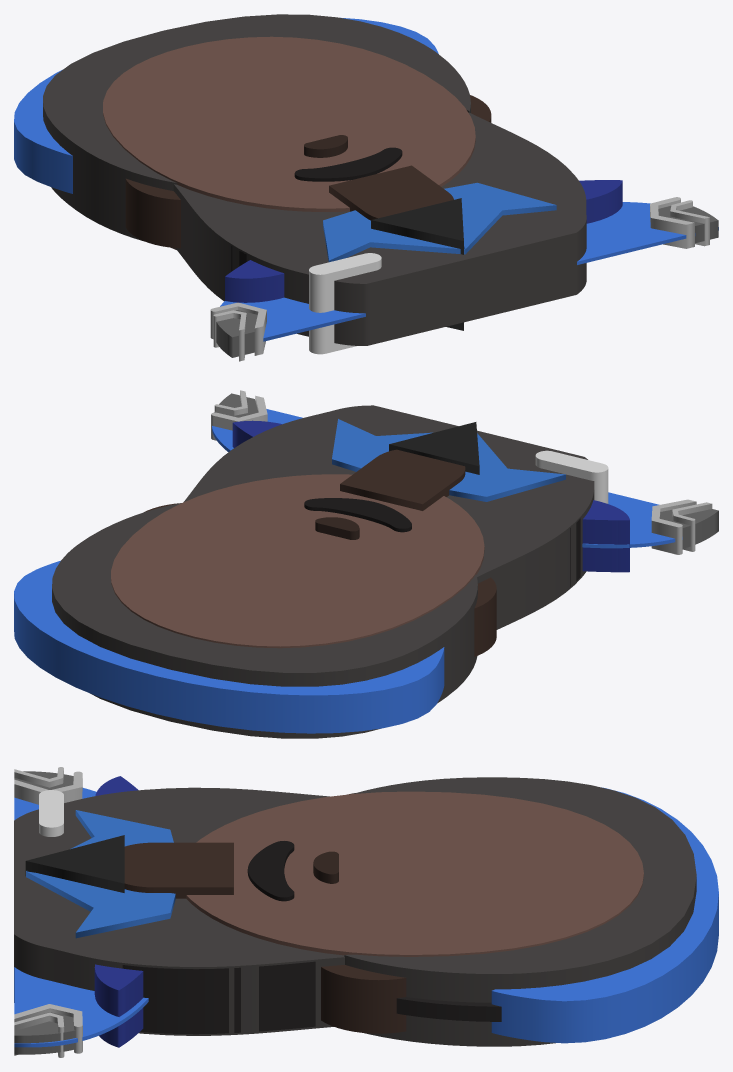
The model's file is emoji_u1f46e_1f3ff_200d_2640.glb.
The picture shows the model from 3 angles, top to bottom: view 1: azimuth 30°, elevation 25°; view 2: azimuth 150°, elevation 25°; view 3: azimuth 270°, elevation 25°; orthographic projection. The views are drawn at different scales.
Parts seen in each view (by area): view 1: emoji_u1f46e_1f3ff_200d_2640; view 2: emoji_u1f46e_1f3ff_200d_2640; view 3: emoji_u1f46e_1f3ff_200d_2640.
Part boxes in pixels (<box>): emoji_u1f46e_1f3ff_200d_2640: <box>14,14,718,361</box>; emoji_u1f46e_1f3ff_200d_2640: <box>14,390,718,738</box>; emoji_u1f46e_1f3ff_200d_2640: <box>14,767,718,1057</box>.
Size of the model in its own units: 0.0295 by 0.0052 by 0.0334.
